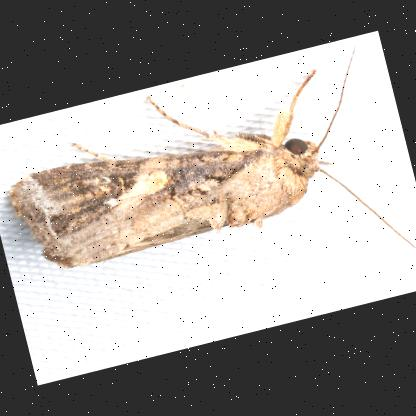Fall Armyworm Moth: (0, 38, 416, 350)
